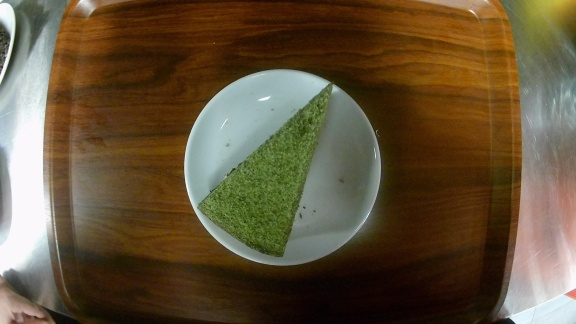fistiklipasta: (182, 68, 382, 267)
